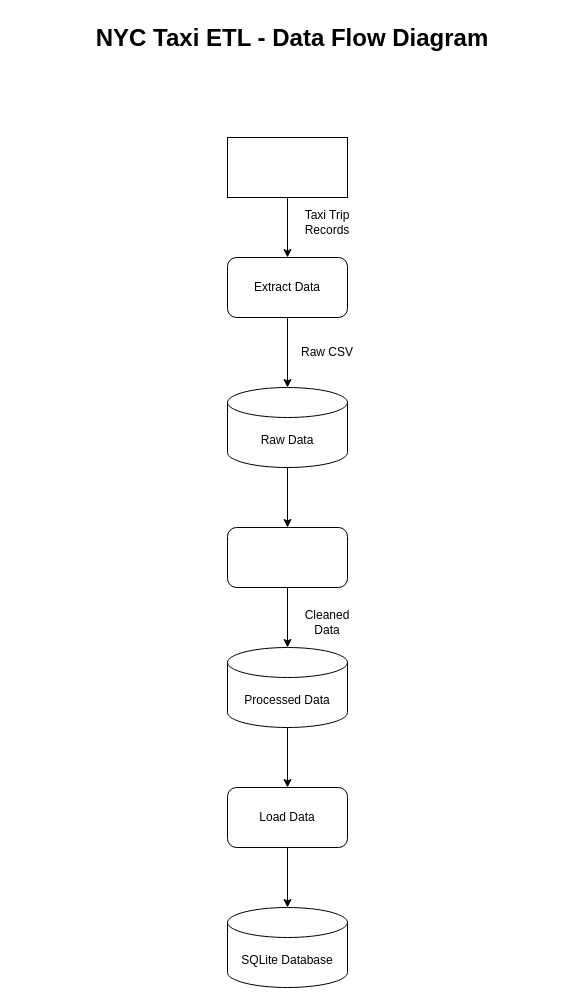
This 584x1005 diagram has some shape labels left out. The box of each missing label's shape, as (x1, y1, x2, y2) in pixels:
NYC Taxi Raw CSV: (226, 136, 348, 198)
Transform Data: (226, 526, 348, 588)
